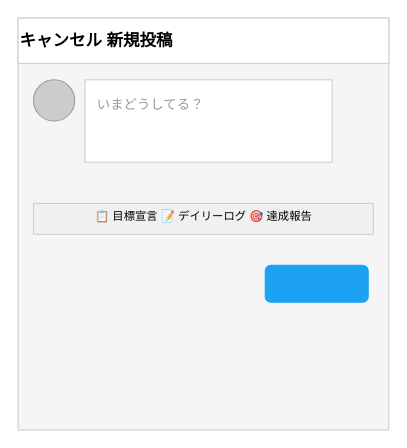
Some shapes in this 407 by 448 pixel diagram are drawn without their labels. Each missing label, with the box of its shape:
アイコン: (32, 79, 75, 121)
投稿する: (264, 264, 368, 302)
